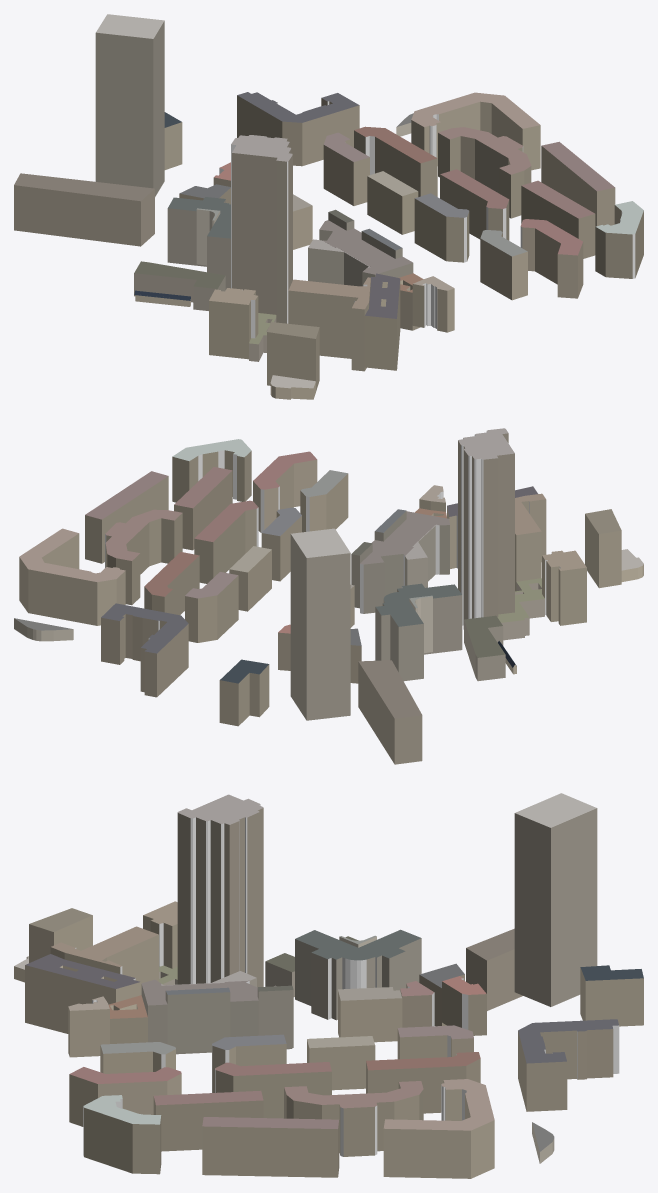
The picture shows the model from 3 angles, top to bottom: view 1: azimuth 30°, elevation 25°; view 2: azimuth 150°, elevation 25°; view 3: azimuth 270°, elevation 25°; orthographic projection. The views are drawn at different scales.
Parts seen in each view (by area): view 1: tuile; view 2: tuile; view 3: tuile.
Boxes of the visible parts, left/top/right/bottom form: tuile: left=14, top=14, right=643, bottom=399; tuile: left=14, top=428, right=643, bottom=764; tuile: left=14, top=793, right=643, bottom=1178.
Bounding box in the file's own units: 250 × 99.57 × 275.
